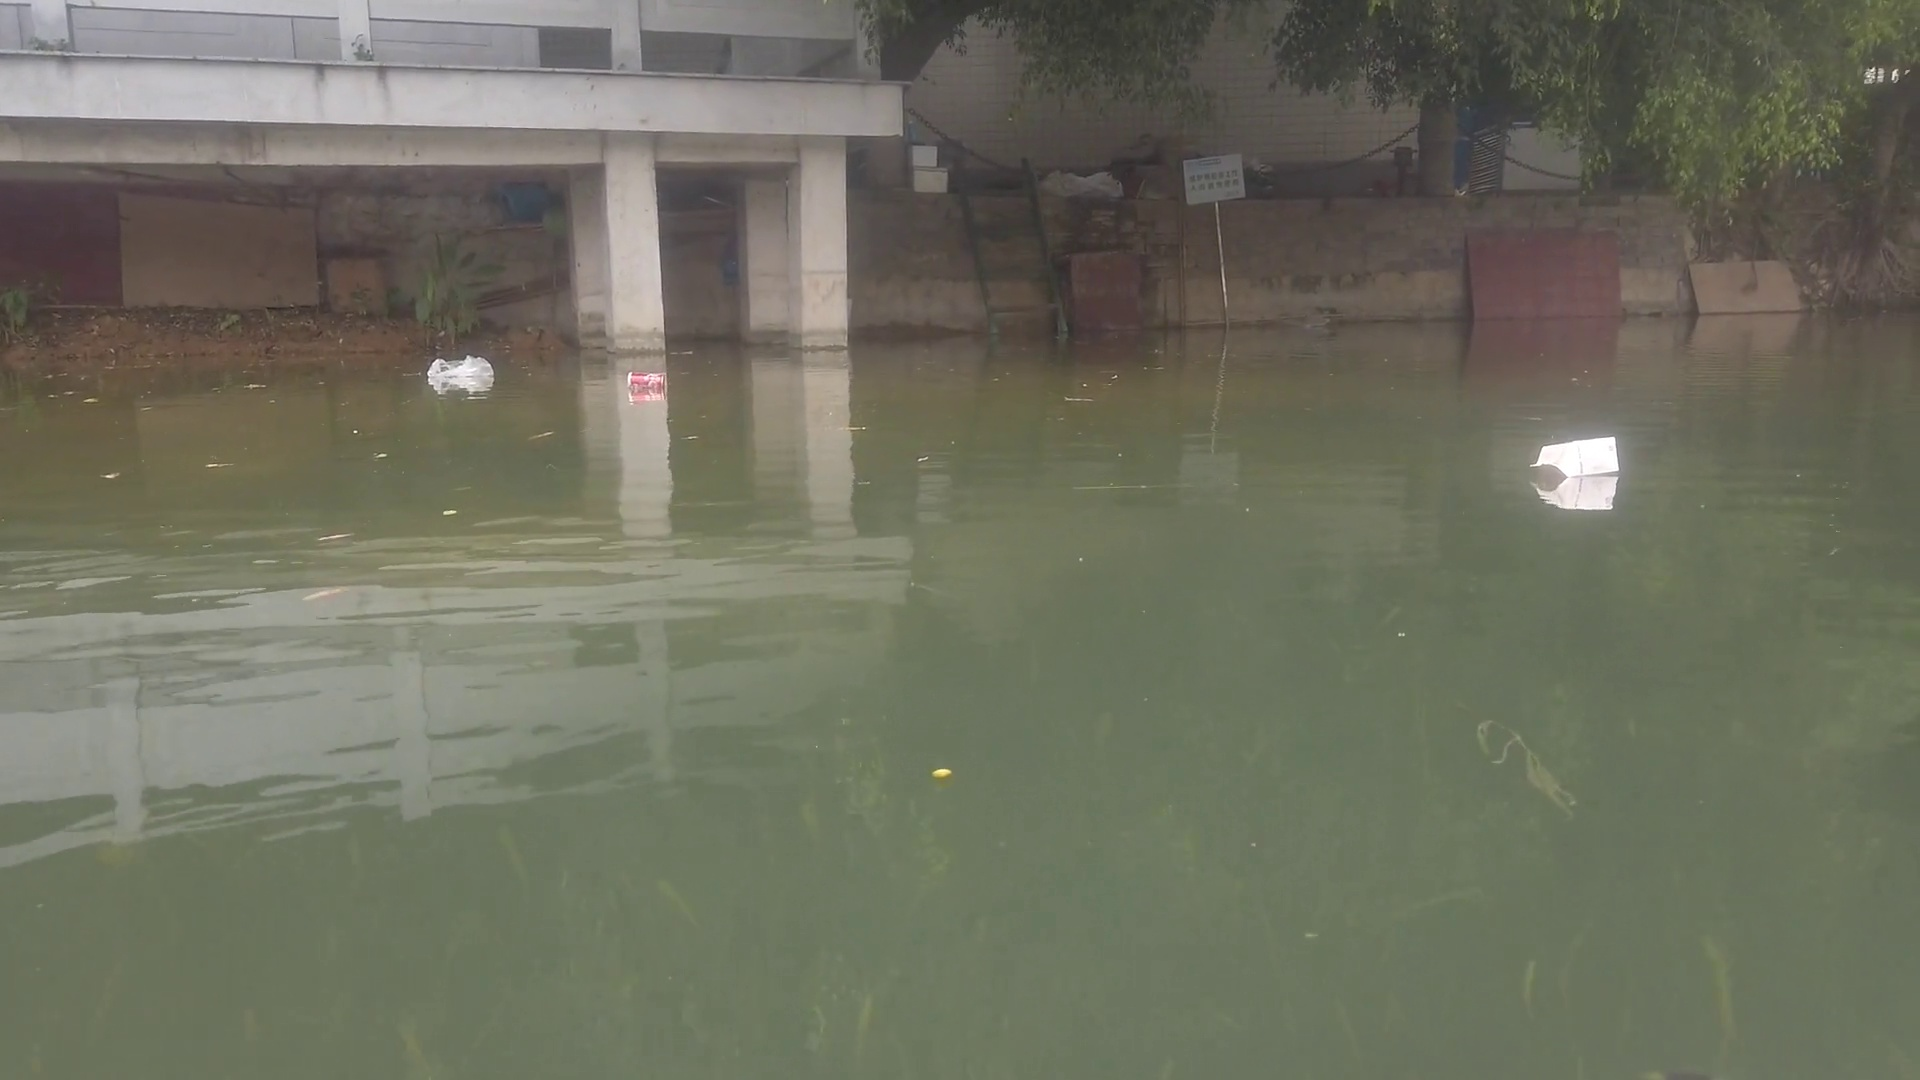bottle: (626, 369, 673, 392)
carton: (1532, 434, 1629, 479)
plastic: (419, 353, 496, 378)
